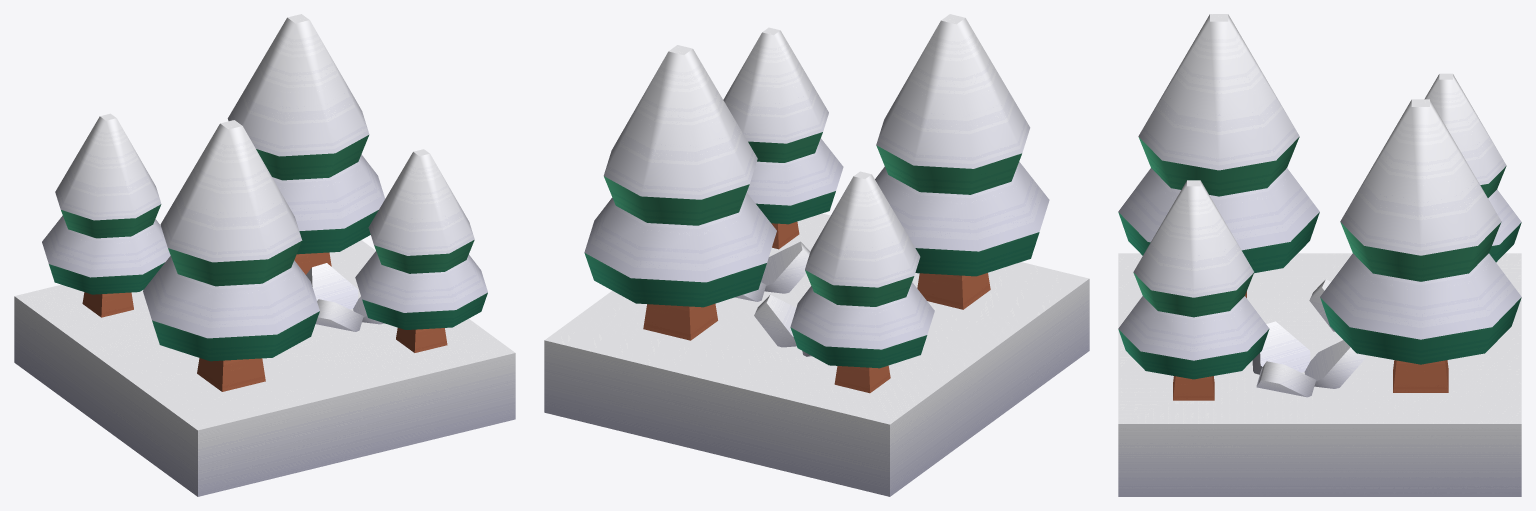
The model's file is snow-tile-tree-quad.glb.
3 renders of one model, left to right at view 1: azimuth 30°, elevation 25°; view 2: azimuth 150°, elevation 25°; view 3: azimuth 270°, elevation 25°, orthographic. The views are drawn at different scales.
Parts seen in each view (by area): view 1: snow-tile-tree-quad; view 2: snow-tile-tree-quad; view 3: snow-tile-tree-quad.
Boxes of the visible parts, x1,y1,x2,y2 form: snow-tile-tree-quad: [14, 14, 515, 496]; snow-tile-tree-quad: [544, 14, 1089, 496]; snow-tile-tree-quad: [1118, 14, 1521, 496].
Bounding box in the file's own units: 3 × 2.88 × 3.
Materials: 1 (1 with a texture image).
